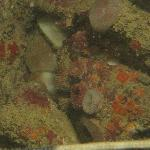dead: (3, 4, 147, 147)
